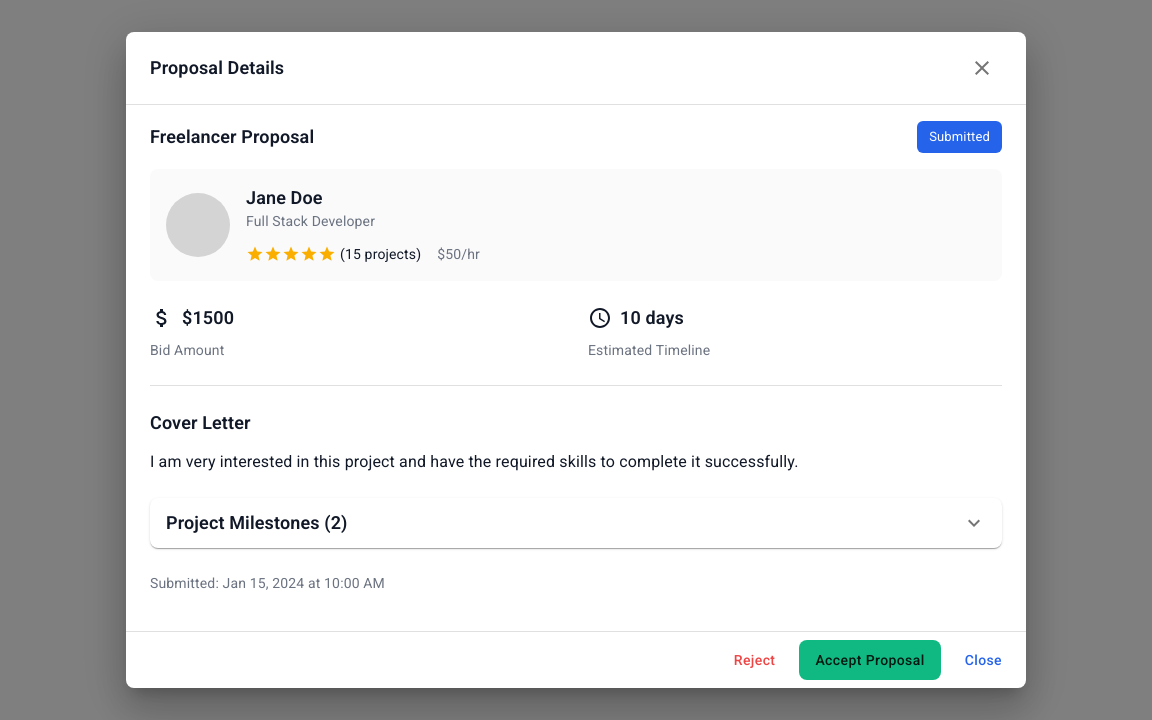
Scenario: ProposalList › ProposalDetailModal › shows milestones accordion
This screenshot has width=1152, height=720.
Expected: the heading "Project Milestones (2)" is shown, x1=166 y1=510 x2=348 y2=536
Expand accordion
Click the button "Project Milestones (2)": click(248, 523) x1=150 y1=498 x2=1002 y2=548
(page scrolled)
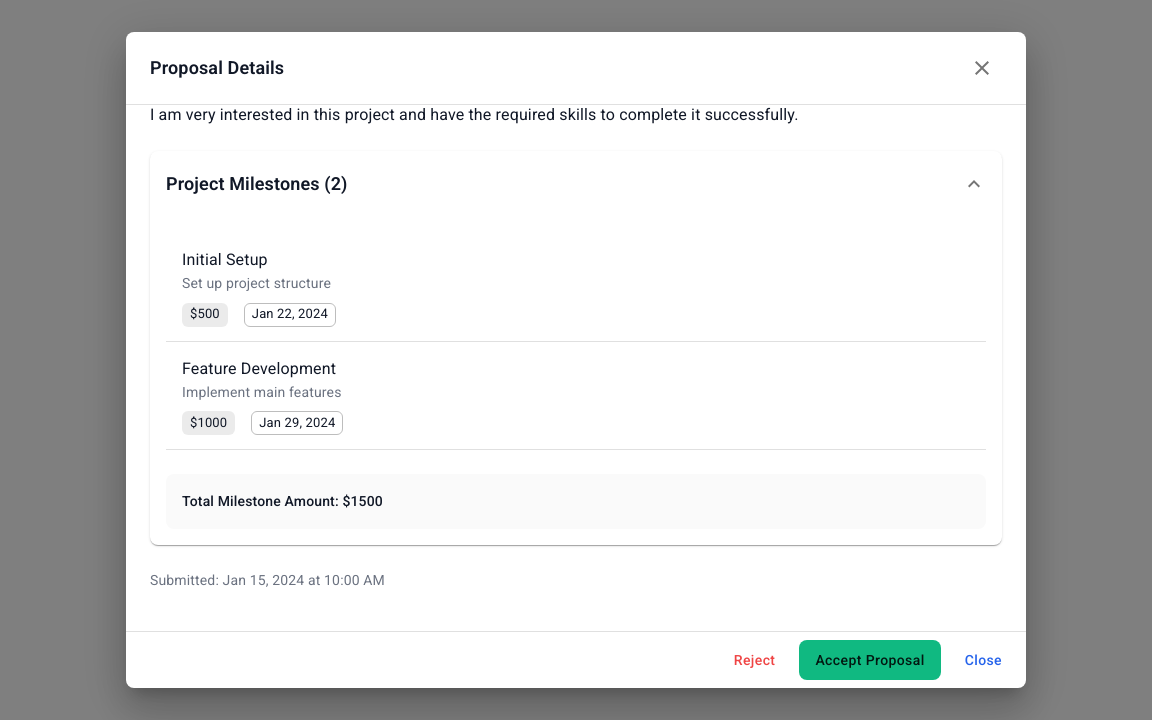
Result: the text "Initial Setup" is shown at x1=182 y1=250 x2=268 y2=268
Result: the text "Feature Development" is shown at x1=182 y1=358 x2=336 y2=378
